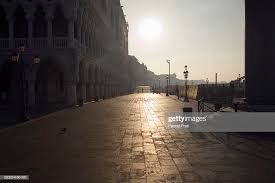strada: (8, 103, 261, 183)
